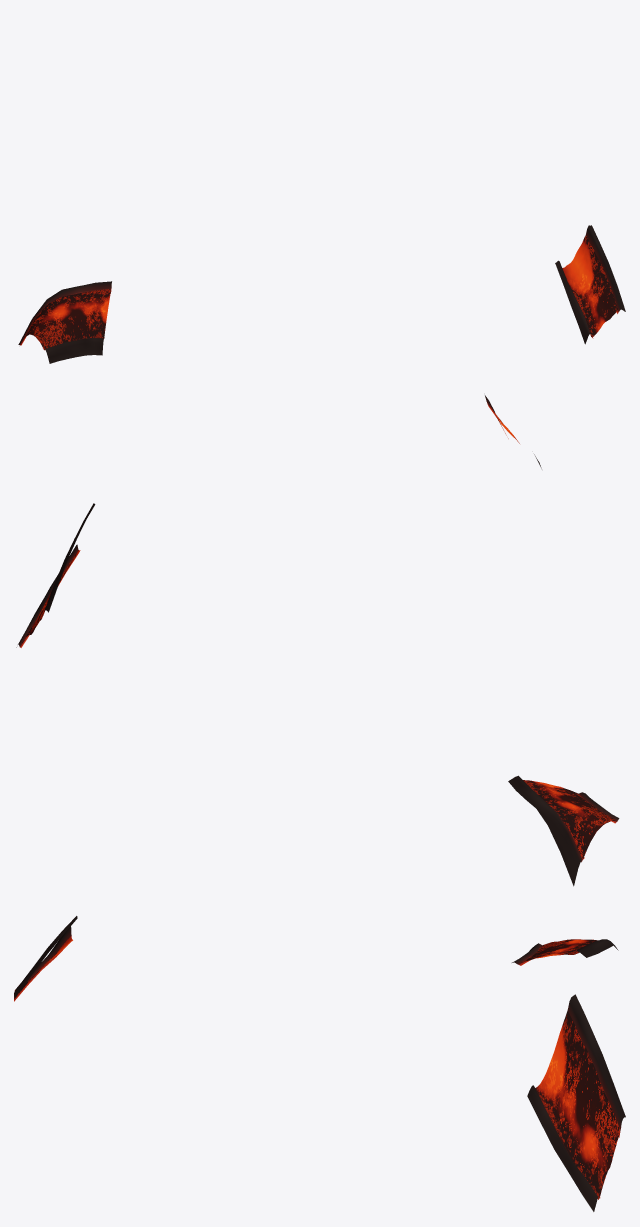
The model's file is lava_seg_4.glb.
3 views of the same model, one above another, from view 1: azimuth 30°, elevation 25°; view 2: azimuth 150°, elevation 25°; view 3: azimuth 270°, elevation 25° (orthographic). The views are drawn at different scales.
Parts seen in each view (by area): view 1: seg; view 2: seg; view 3: seg.
Boxes of the visible parts, x1,y1,x2,y2 form: seg: (18,225,625,363); seg: (16,395,619,886); seg: (14,916,625,1211).
Size of the model in its own units: 63.3 by 25.39 by 51.46.
